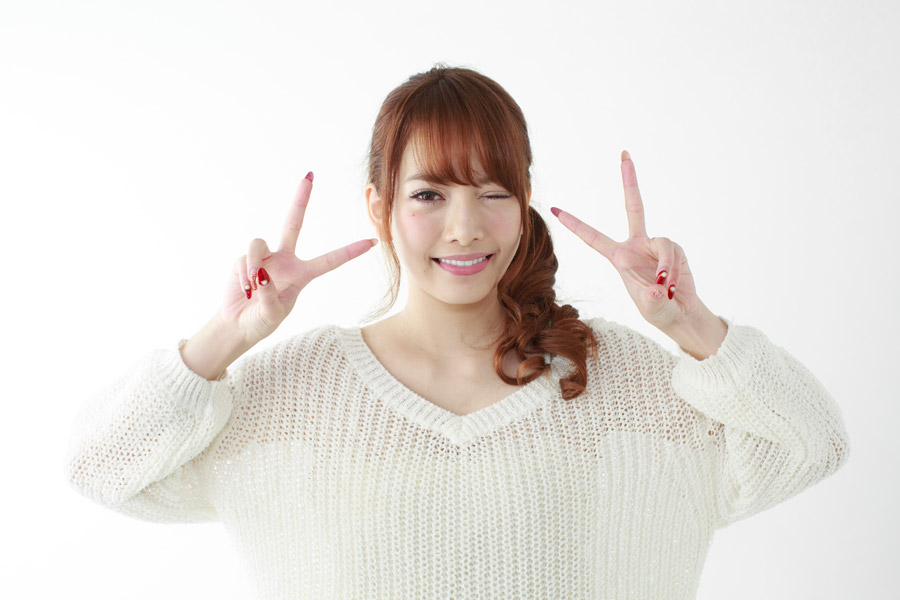face: (368, 121, 524, 305)
hand: (217, 169, 380, 345), (549, 146, 695, 331)
